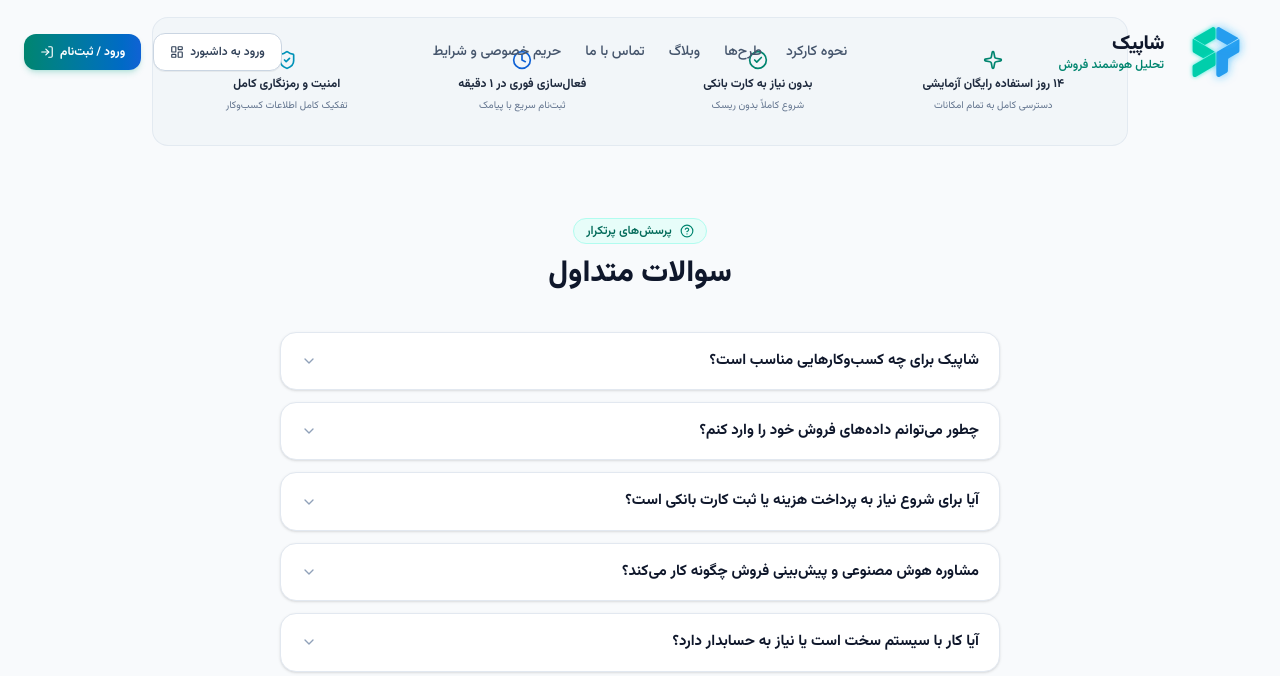
Test case: [page] Public Pages › toggles the FAQ accordion open and closed
(page scrolled)
What coordinates should you click on to do the following:
click the button "شاپیک برای چه کسب‌وکارهایی مناسب است؟"
I would click on:
 (844, 360)
Its box is [281, 333, 999, 389].
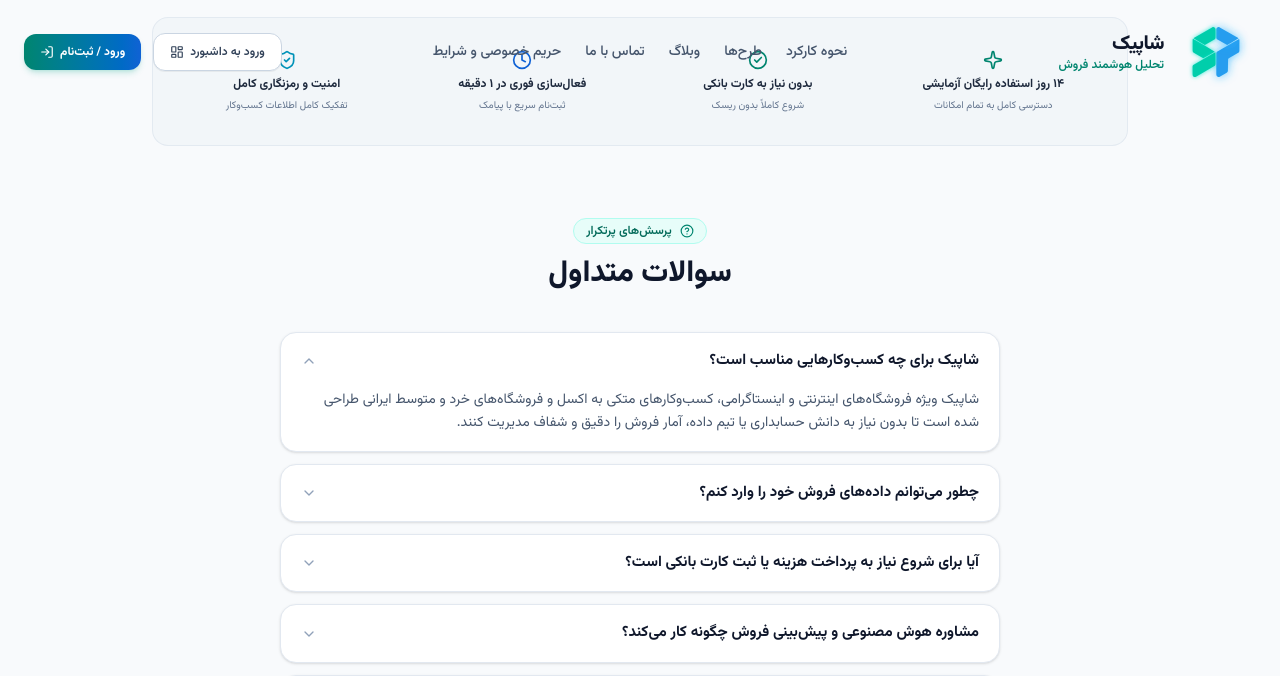
Check: the button "شاپیک برای چه کسب‌وکارهایی مناسب است؟" is expanded
What coordinates should you click on to do the following:
click the button "شاپیک برای چه کسب‌وکارهایی مناسب است؟"
I would click on:
 (844, 360)
Its box is [281, 333, 999, 389].
(page scrolled)
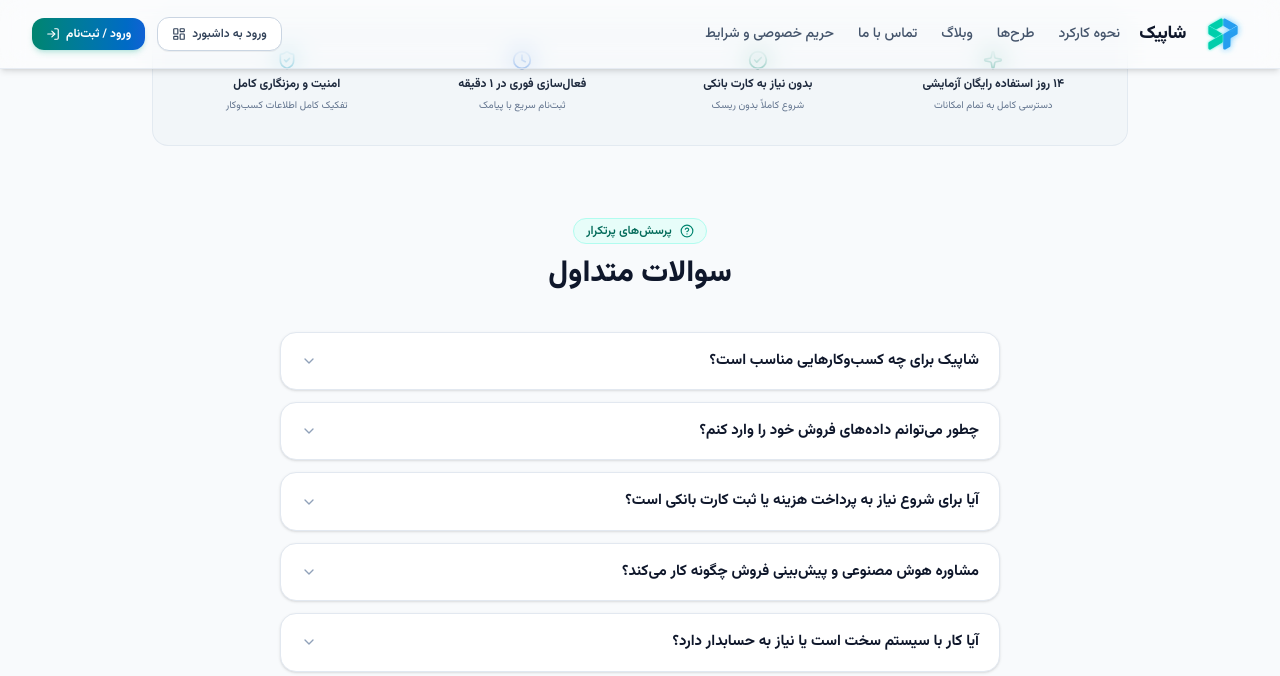
Check: the button "شاپیک برای چه کسب‌وکارهایی مناسب است؟" is collapsed, box [281, 333, 999, 389]
